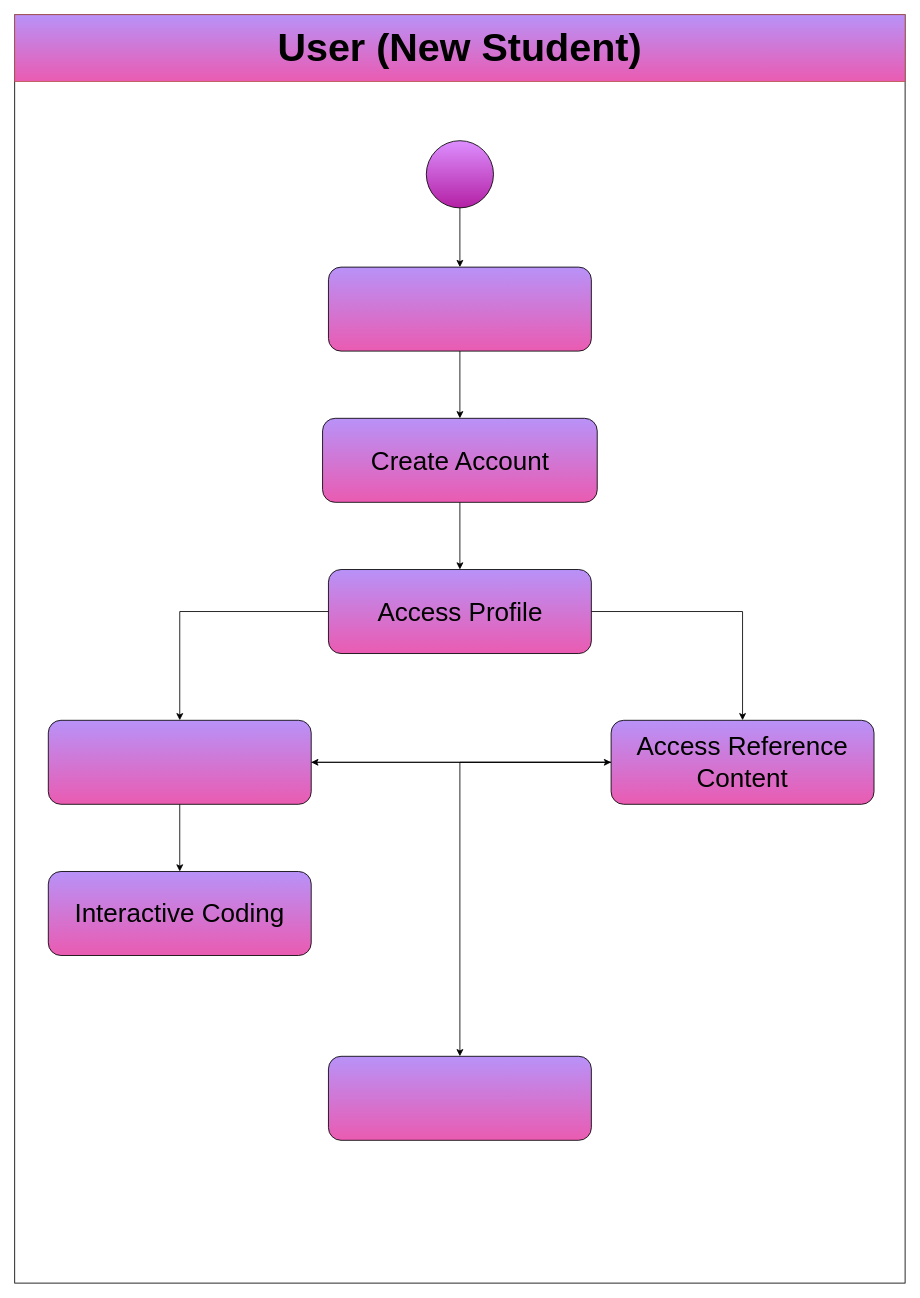
Some shapes in this 920 by 1298 pixel diagram are drawn without their labels. Each missing label, with the box of its shape:
Access Tutorials: (47, 719, 311, 804)
Logout: (328, 1055, 591, 1140)
Navigate to Website: (328, 266, 591, 351)
